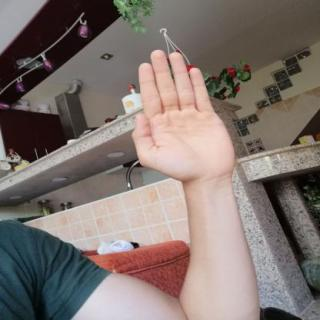SEEN: (122, 42, 244, 187)
